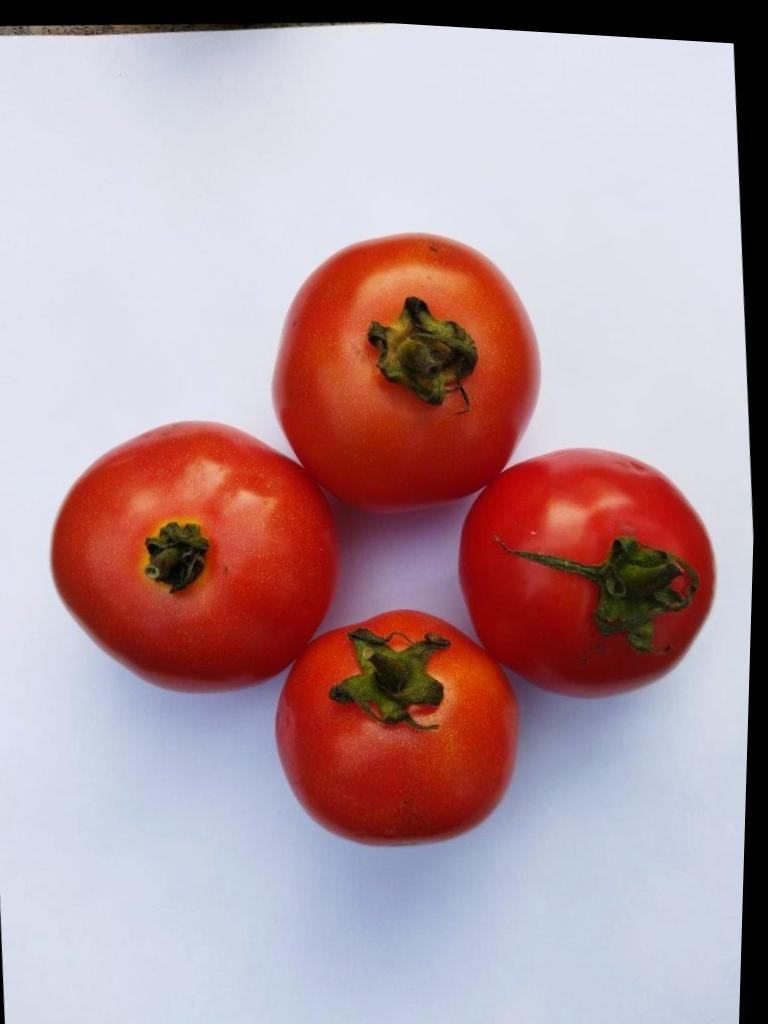tomato: (52, 422, 336, 688), (274, 234, 540, 510), (460, 449, 714, 693), (277, 609, 516, 842)
